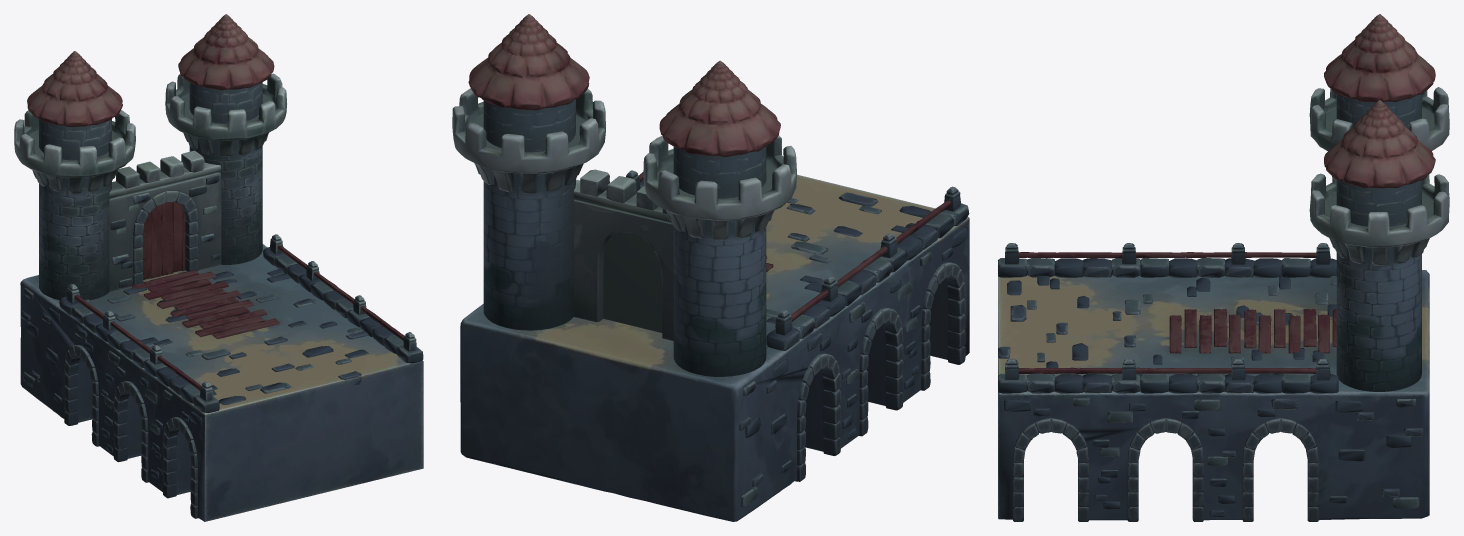
Rendered from MedievalMap.glb.
The picture shows the model from 3 angles, left to right: view 1: azimuth 30°, elevation 25°; view 2: azimuth 150°, elevation 25°; view 3: azimuth 270°, elevation 25°; orthographic projection. The views are drawn at different scales.
Parts seen in each view (by area): view 1: Merged_Fence_Plank_12, Merged_Fence_Plank_10; view 2: Merged_Fence_Plank_12, Merged_Fence_Plank_10; view 3: Merged_Fence_Plank_12, Merged_Fence_Plank_10.
Part boxes in pixels (x1,y1,x2,y2): Merged_Fence_Plank_12: (20, 234, 423, 521); Merged_Fence_Plank_10: (14, 14, 286, 300); Merged_Fence_Plank_12: (460, 170, 969, 521); Merged_Fence_Plank_10: (452, 14, 796, 376); Merged_Fence_Plank_12: (998, 243, 1429, 521); Merged_Fence_Plank_10: (1309, 14, 1449, 391).
Bounding box in the file's own units: 1.93 × 2.48 × 2.53.
2 materials, 2 textured.
